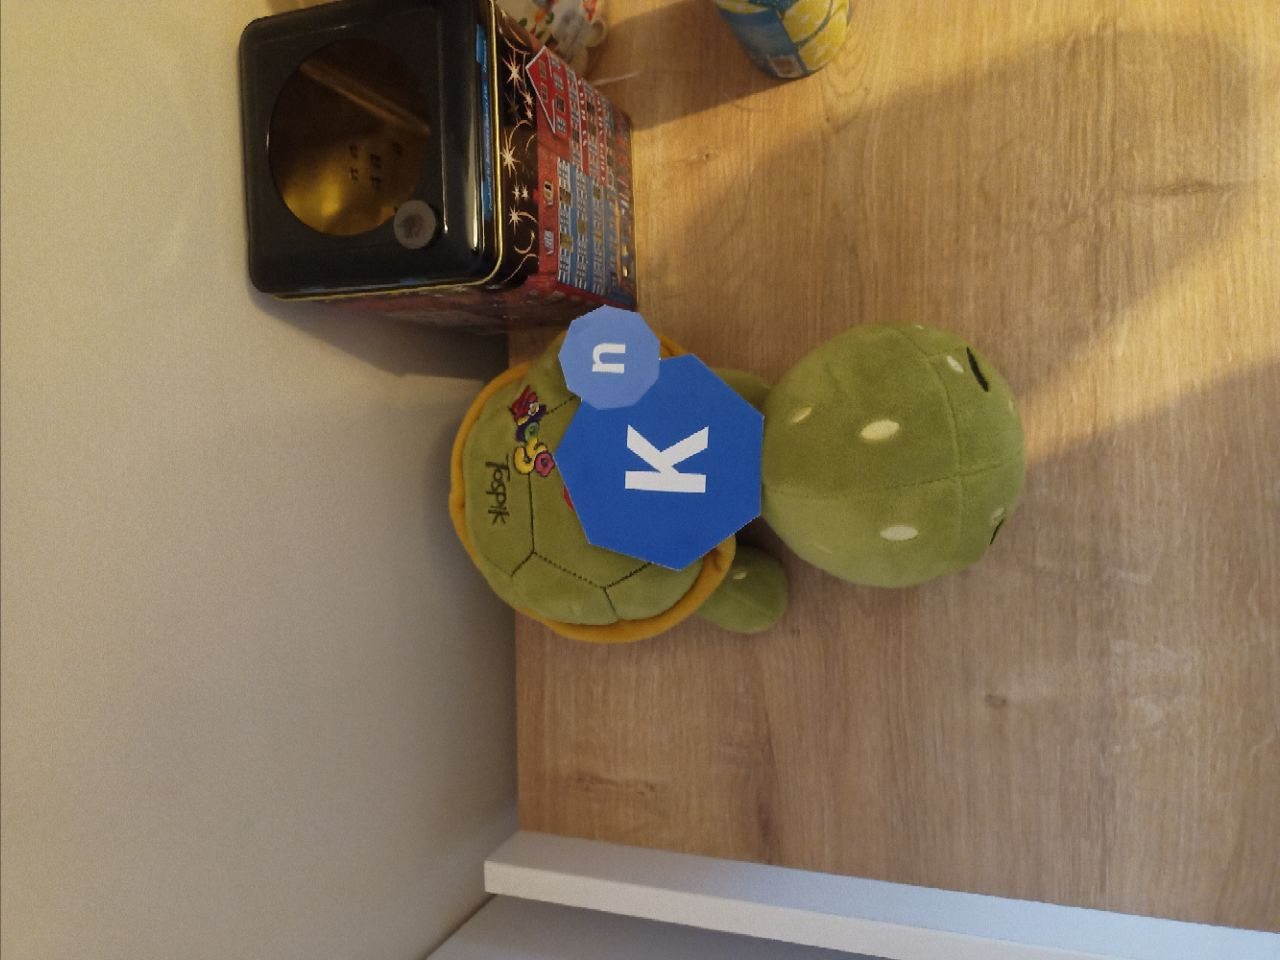knative: (558, 306, 765, 570)
